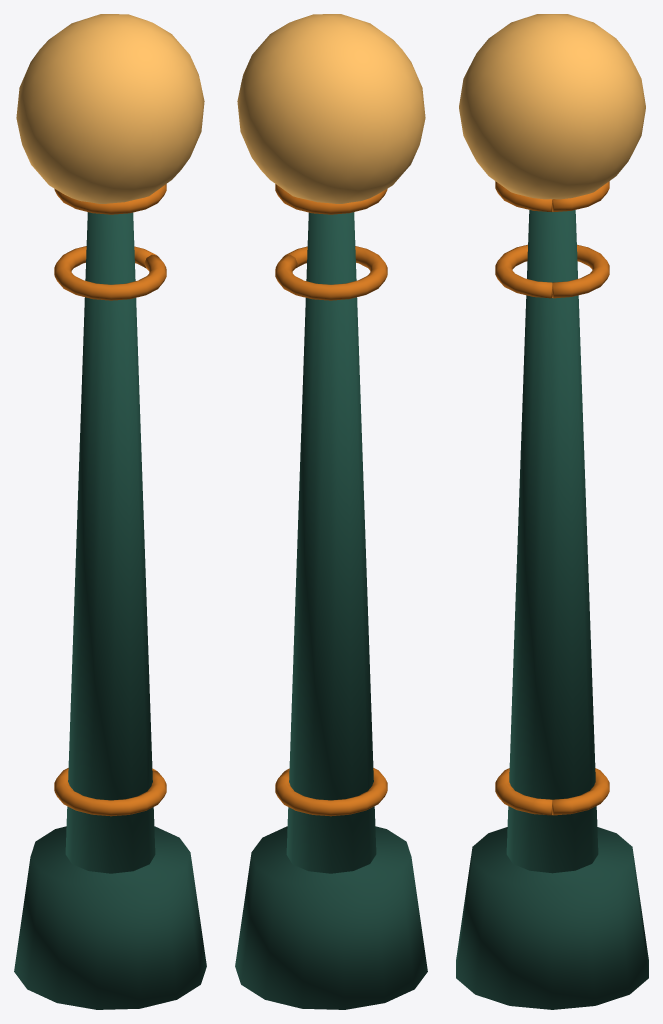
File: lamp.glb
3 views of the same model, side by side, from view 1: azimuth 30°, elevation 25°; view 2: azimuth 150°, elevation 25°; view 3: azimuth 270°, elevation 25° (orthographic).
Parts seen in each view (by area): view 1: lamp; view 2: lamp; view 3: lamp.
Boxes of the visible parts, x1,y1,x2,y2 form: lamp: (14, 14, 206, 1009); lamp: (235, 14, 427, 1009); lamp: (456, 14, 648, 1009).
Size of the model in its own units: 0.47 by 2.55 by 0.47.
